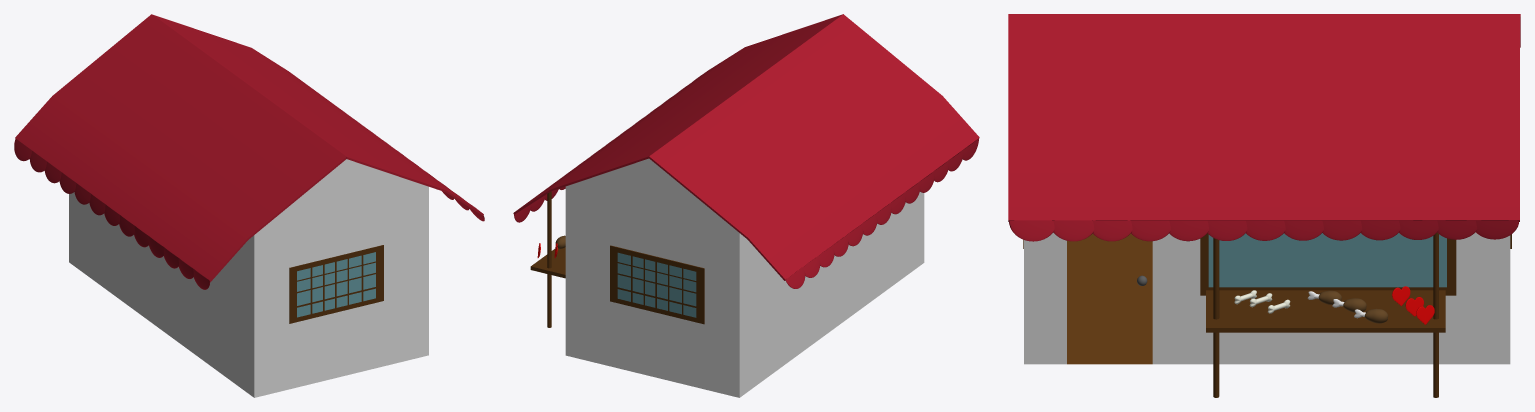
File: store.fbx
3 views of the same model, side by side, from view 1: azimuth 30°, elevation 25°; view 2: azimuth 150°, elevation 25°; view 3: azimuth 270°, elevation 25° (orthographic). The views are drawn at different scales.
Parts seen in each view (by area): view 1: pasted__group2, pCube1, group2, pCube5; view 2: pasted__group2, pCube1, group2, pasted__pCube5, pCube4, pCylinder1; view 3: group2, pCube1, pCube6, pCube7, pCube4, pasted__pCylinder1, pCylinder1, pasted__group2.
Part boxes in pixels (x1,y1,x2,y2): pasted__group2: (14, 14, 346, 289); pCube1: (69, 159, 428, 397); group2: (153, 15, 484, 221); pCube5: (289, 245, 383, 323); pasted__group2: (648, 14, 979, 288); pCube1: (565, 158, 924, 397); group2: (513, 14, 843, 222); pasted__pCube5: (610, 245, 704, 324); pCube4: (530, 247, 565, 278); pCylinder1: (547, 191, 551, 327); group2: (1008, 14, 1519, 241); pCube1: (1024, 232, 1510, 364); pCube6: (1200, 233, 1456, 295); pCube7: (1067, 233, 1152, 364); pCube4: (1206, 290, 1445, 332); pasted__pCylinder1: (1213, 238, 1219, 397); pCylinder1: (1433, 232, 1438, 397); pasted__group2: (1009, 14, 1520, 47).
Size of the model in its own units: 7.52 by 5.59 by 8.71.
